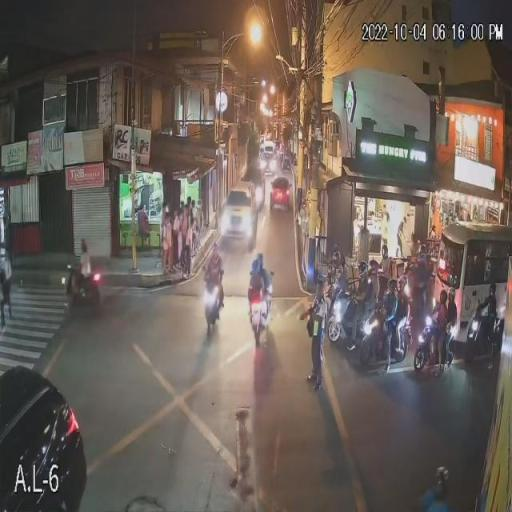helmet: (398, 278, 408, 296), (387, 278, 395, 296), (448, 290, 457, 305), (439, 290, 446, 307), (380, 245, 387, 262), (370, 262, 379, 275), (358, 262, 366, 276), (332, 253, 340, 267), (80, 238, 88, 252), (211, 246, 219, 260), (488, 285, 496, 298), (252, 261, 260, 273)
motorcycle: (354, 314, 410, 368), (416, 321, 461, 374), (334, 289, 373, 342), (64, 264, 102, 309), (470, 307, 498, 364), (246, 285, 272, 346), (200, 271, 224, 328), (320, 275, 334, 315)
rider: (430, 292, 446, 377), (355, 261, 367, 345), (485, 284, 496, 360), (448, 290, 457, 363), (248, 262, 264, 298), (368, 262, 379, 311), (378, 245, 390, 287), (330, 251, 343, 287), (80, 250, 90, 280), (209, 259, 222, 282)
